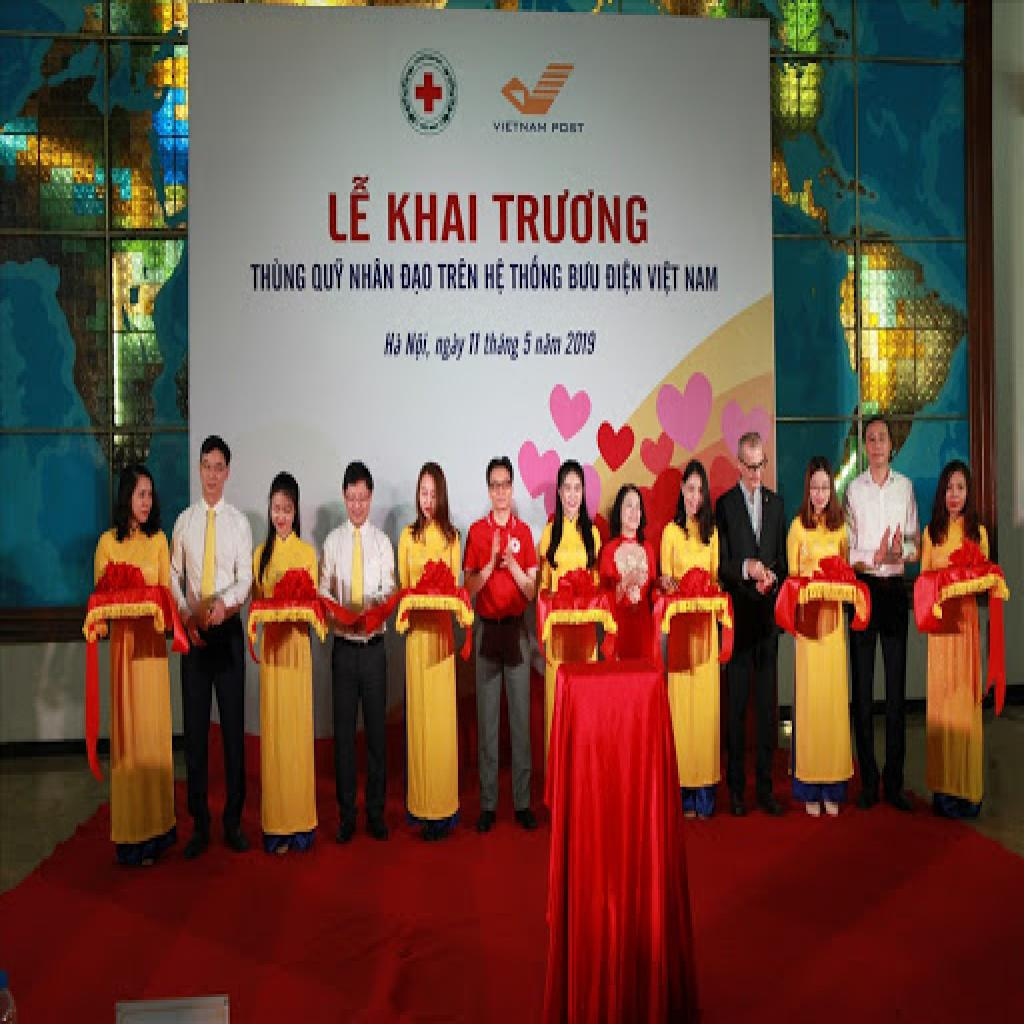text: (490, 186, 650, 249), (386, 189, 478, 249), (328, 174, 378, 246), (248, 256, 308, 298), (508, 252, 564, 294), (348, 256, 396, 298), (604, 256, 644, 300), (438, 256, 482, 294), (308, 252, 346, 294), (644, 258, 682, 300), (682, 262, 722, 300), (482, 328, 522, 366), (400, 258, 436, 300), (566, 256, 602, 298), (432, 328, 468, 366), (492, 114, 550, 135), (404, 330, 436, 366), (482, 256, 508, 300), (534, 330, 564, 360), (382, 328, 406, 360), (550, 120, 586, 138), (466, 328, 484, 360), (520, 328, 536, 360)
